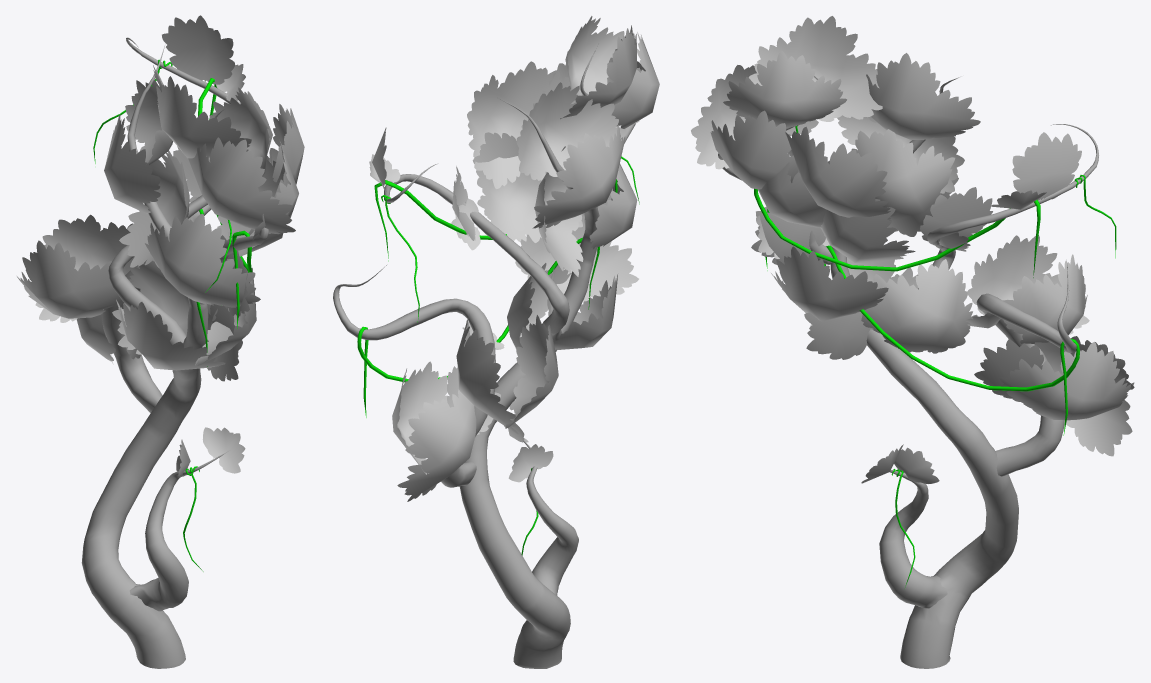
The model's file is tree_low.fbx.
3 renders of one model, left to right at view 1: azimuth 30°, elevation 25°; view 2: azimuth 150°, elevation 25°; view 3: azimuth 270°, elevation 25°, orthographic. The views are drawn at different scales.
Parts seen in each view (by area): view 1: tree_low; view 2: tree_low; view 3: tree_low.
Part boxes in pixels (left/top/right/bottom): tree_low: left=17, top=15, right=304, bottom=668; tree_low: left=333, top=16, right=659, bottom=668; tree_low: left=691, top=16, right=1134, bottom=668.
Size of the model in its own units: 771 by 2131 by 1380.
